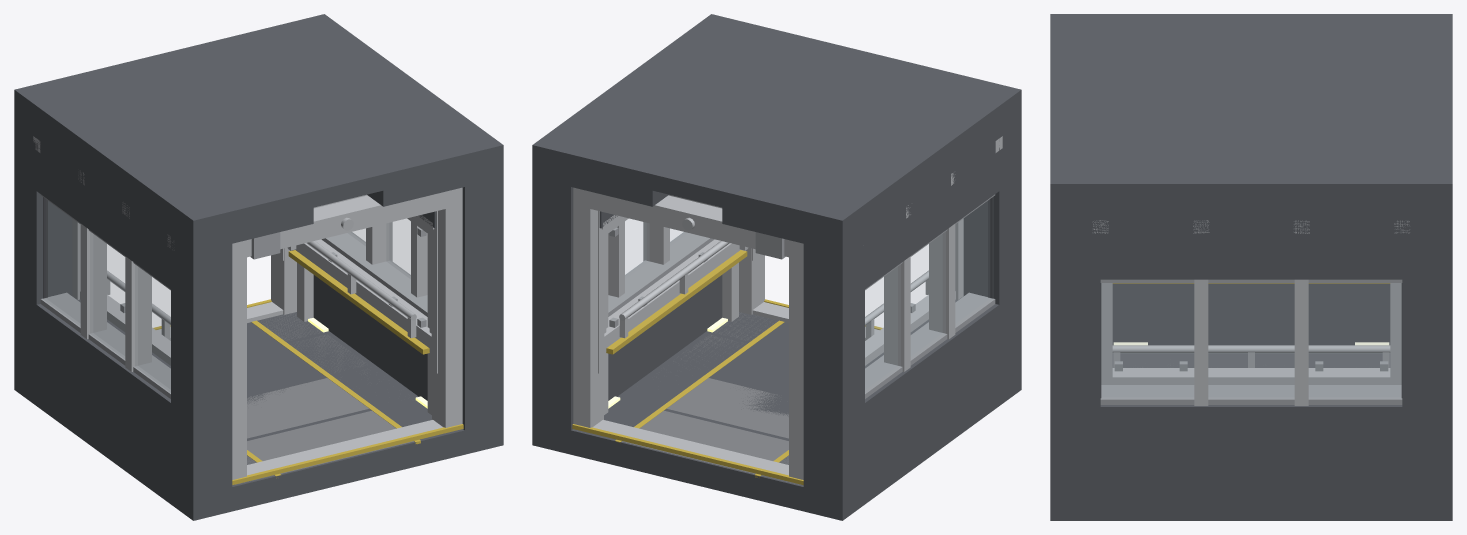
Rendered from corridor_window_double.glb.
3 renders of one model, left to right at view 1: azimuth 30°, elevation 25°; view 2: azimuth 150°, elevation 25°; view 3: azimuth 270°, elevation 25°, orthographic. The views are drawn at different scales.
Parts seen in each view (by area): view 1: corridor_window_double; view 2: corridor_window_double; view 3: corridor_window_double.
Part boxes in pixels (x1=…): corridor_window_double: x1=14, y1=14, x2=503, y2=520; corridor_window_double: x1=532, y1=14, x2=1021, y2=520; corridor_window_double: x1=1050, y1=14, x2=1452, y2=520.
Bounding box in the file's own units: 4 × 3.7 × 4.
